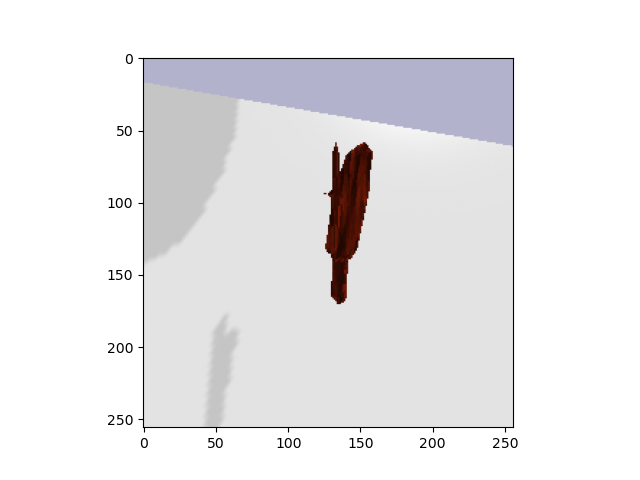v249b387_107: (321, 138, 380, 311)
